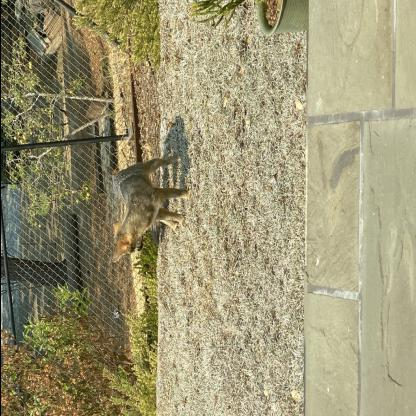zorro: (104, 147, 194, 267)
